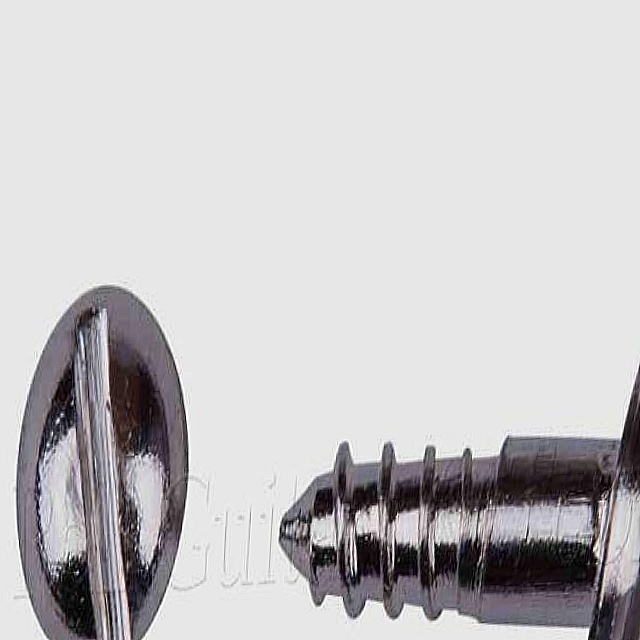duz: (14, 273, 198, 640)
